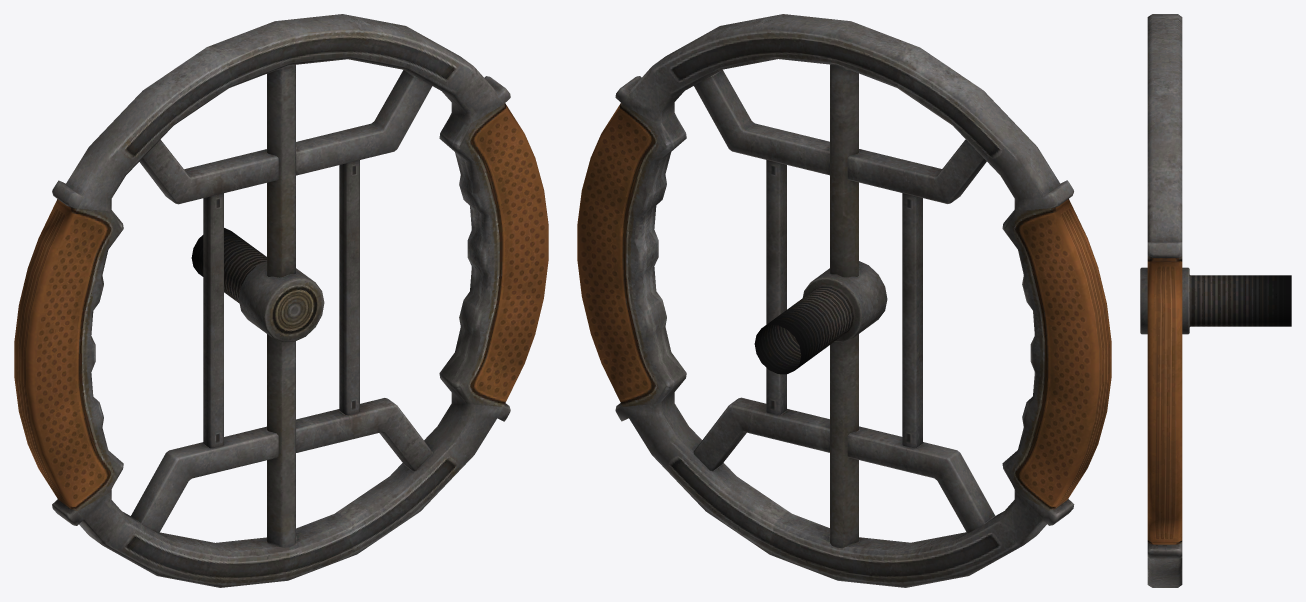
Rendered from valve_wheel_metal.dae.
3 renders of one model, left to right at view 1: azimuth 30°, elevation 25°; view 2: azimuth 150°, elevation 25°; view 3: azimuth 270°, elevation 25°, orthographic. The views are drawn at different scales.
Visible parts, largest first — view 1: polySurface14; view 2: polySurface14; view 3: polySurface14.
Boxes of the visible parts, x1=… form: polySurface14: x1=14, y1=14, x2=548, y2=587; polySurface14: x1=577, y1=14, x2=1111, y2=587; polySurface14: x1=1140, y1=14, x2=1291, y2=587.
Size of the model in its own units: 0.2776 by 0.28 by 0.0735.
